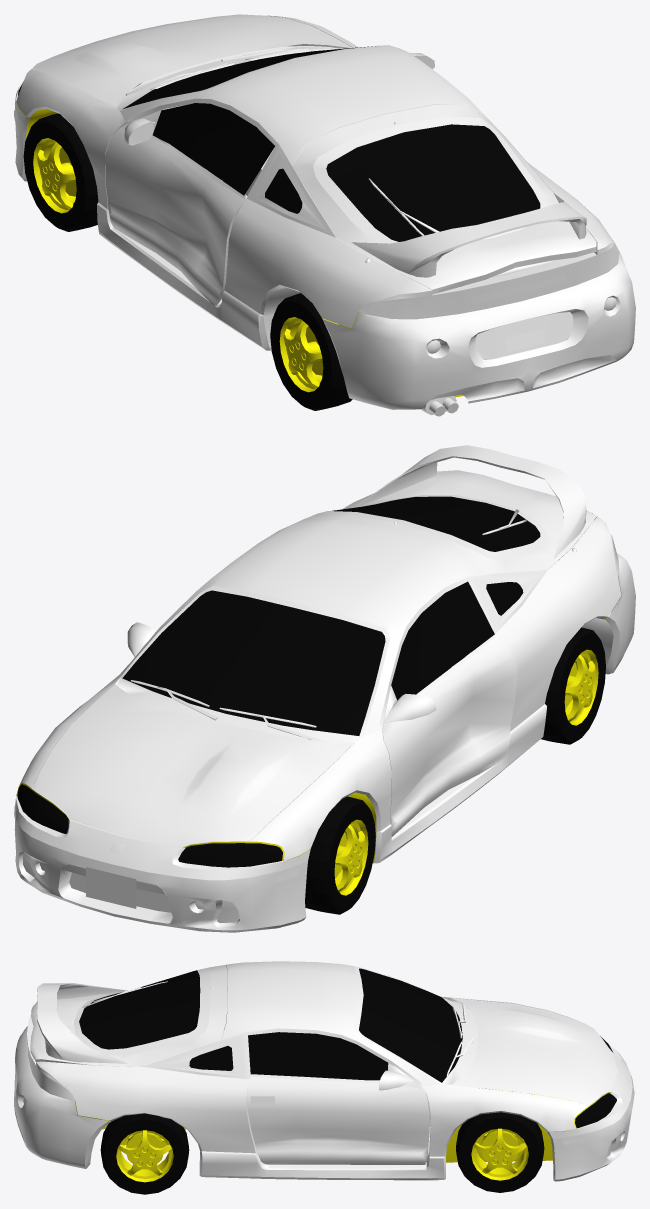
Rendered from eclipse.glb.
3 views of the same model, one above another, from view 1: azimuth 30°, elevation 25°; view 2: azimuth 150°, elevation 25°; view 3: azimuth 270°, elevation 25° (orthographic). The views are drawn at different scales.
Visible parts, largest first — view 1: chassis, bump_rear_ok, boot_dam, window_boot_dam, door_lf_dam, bonnet_ok, wheel.003, window_lf_dam, wheel.002, taillights, windscreen_ok, whipers (+2 smaller); view 2: chassis, bonnet_ok, windscreen_ok, bump_front_ok, door_lf_dam, boot_dam, window_lf_dam, wheel.003, window_boot_dam, wheel.002, headlights, bump_rear_ok (+2 smaller); view 3: chassis, door_rf_ok, bonnet_ok, boot_dam, windscreen_ok, window_boot_dam, bump_rear_ok, wheel.001, wheel, window_rf_ok, bump_front_ok, headlights (+1 smaller).
Part boxes in pixels (bbox=[...]): chassis: bbox=[16, 15, 619, 397]; bump_rear_ok: bbox=[322, 250, 635, 409]; boot_dam: bbox=[292, 105, 597, 294]; window_boot_dam: bbox=[326, 124, 540, 241]; door_lf_dam: bbox=[105, 110, 247, 305]; bonnet_ok: bbox=[32, 14, 352, 106]; wheel.003: bbox=[23, 113, 98, 231]; window_lf_dam: bbox=[152, 103, 274, 195]; wheel.002: bbox=[270, 293, 352, 410]; taillights: bbox=[361, 244, 618, 318]; windscreen_ok: bbox=[123, 46, 375, 213]; whipers: bbox=[125, 48, 343, 95]; chassis: bbox=[16, 493, 621, 863]; bonnet_ok: bbox=[32, 684, 353, 846]; windscreen_ok: bbox=[122, 582, 523, 735]; bump_front_ok: bbox=[14, 796, 310, 932]; door_lf_dam: bbox=[382, 635, 517, 836]; boot_dam: bbox=[306, 445, 596, 574]; window_lf_dam: bbox=[391, 581, 494, 700]; wheel.003: bbox=[305, 796, 375, 914]; window_boot_dam: bbox=[332, 496, 540, 551]; wheel.002: bbox=[541, 627, 605, 744]; headlights: bbox=[17, 784, 282, 867]; bump_rear_ok: bbox=[605, 553, 635, 674]; chassis: bbox=[27, 961, 611, 1180]; door_rf_ok: bbox=[246, 1063, 429, 1164]; bonnet_ok: bbox=[451, 998, 617, 1104]; boot_dam: bbox=[30, 965, 227, 1066]; windscreen_ok: bbox=[189, 968, 462, 1082]; window_boot_dam: bbox=[79, 970, 200, 1049]; bump_rear_ok: bbox=[14, 1026, 110, 1168]; wheel.001: bbox=[100, 1113, 189, 1194]; wheel: bbox=[456, 1112, 544, 1192]; window_rf_ok: bbox=[248, 1032, 388, 1080]; bump_front_ok: bbox=[547, 1045, 634, 1181]; headlights: bbox=[575, 1036, 616, 1128].
Bounding box in the file's own units: 2.17 × 1.49 × 5.12.
